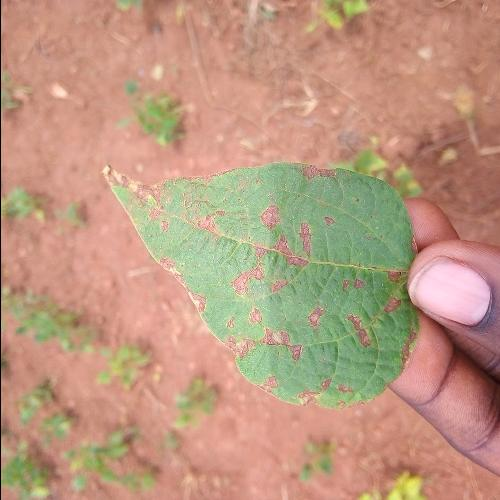hawar: (158, 118, 386, 394)
